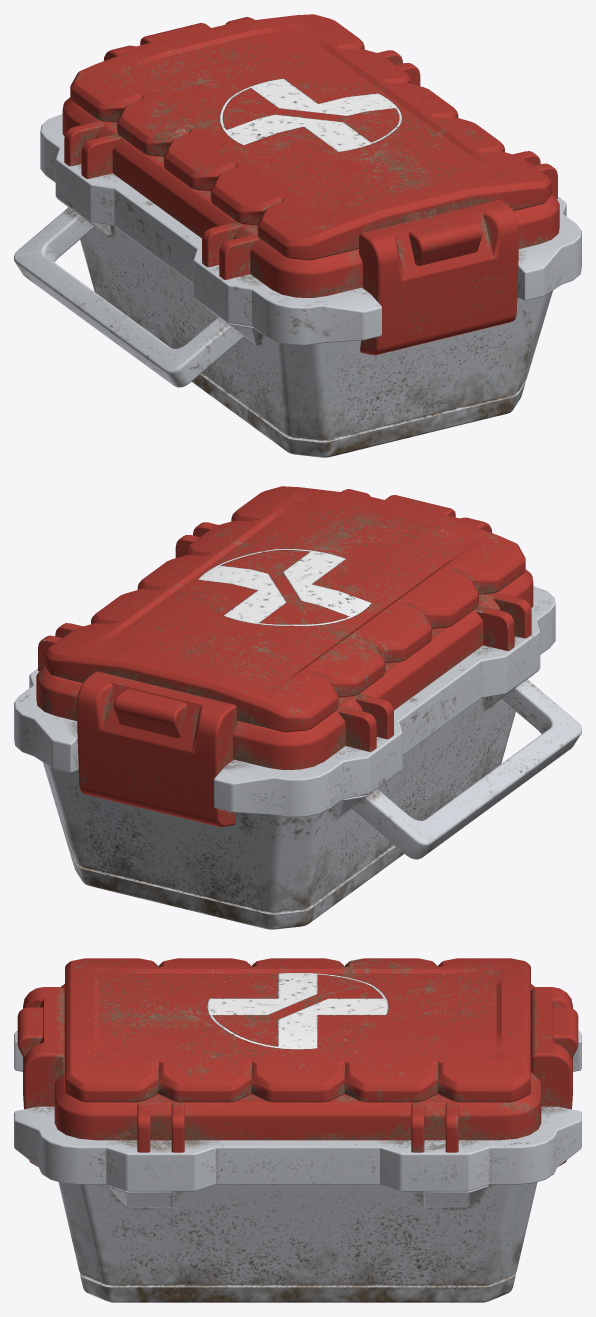
File: Medkit.obj
3 views of the same model, one above another, from view 1: azimuth 30°, elevation 25°; view 2: azimuth 150°, elevation 25°; view 3: azimuth 270°, elevation 25° (orthographic).
Parts seen in each view (by area): view 1: Medkit:polySurface42, Medkit:polySurface37polySurface12; view 2: Medkit:polySurface42, Medkit:polySurface37polySurface12; view 3: Medkit:polySurface42, Medkit:polySurface37polySurface12.
Part boxes in pixels (left/top/right/bottom): Medkit:polySurface42: left=14, top=14, right=581, bottom=457; Medkit:polySurface37polySurface12: left=219, top=78, right=402, bottom=151; Medkit:polySurface42: left=14, top=486, right=581, bottom=929; Medkit:polySurface37polySurface12: left=198, top=548, right=371, bottom=626; Medkit:polySurface42: left=14, top=958, right=581, bottom=1302; Medkit:polySurface37polySurface12: left=207, top=972, right=388, bottom=1049.
Size of the model in its own units: 0.9862 by 0.5854 by 1.25.
